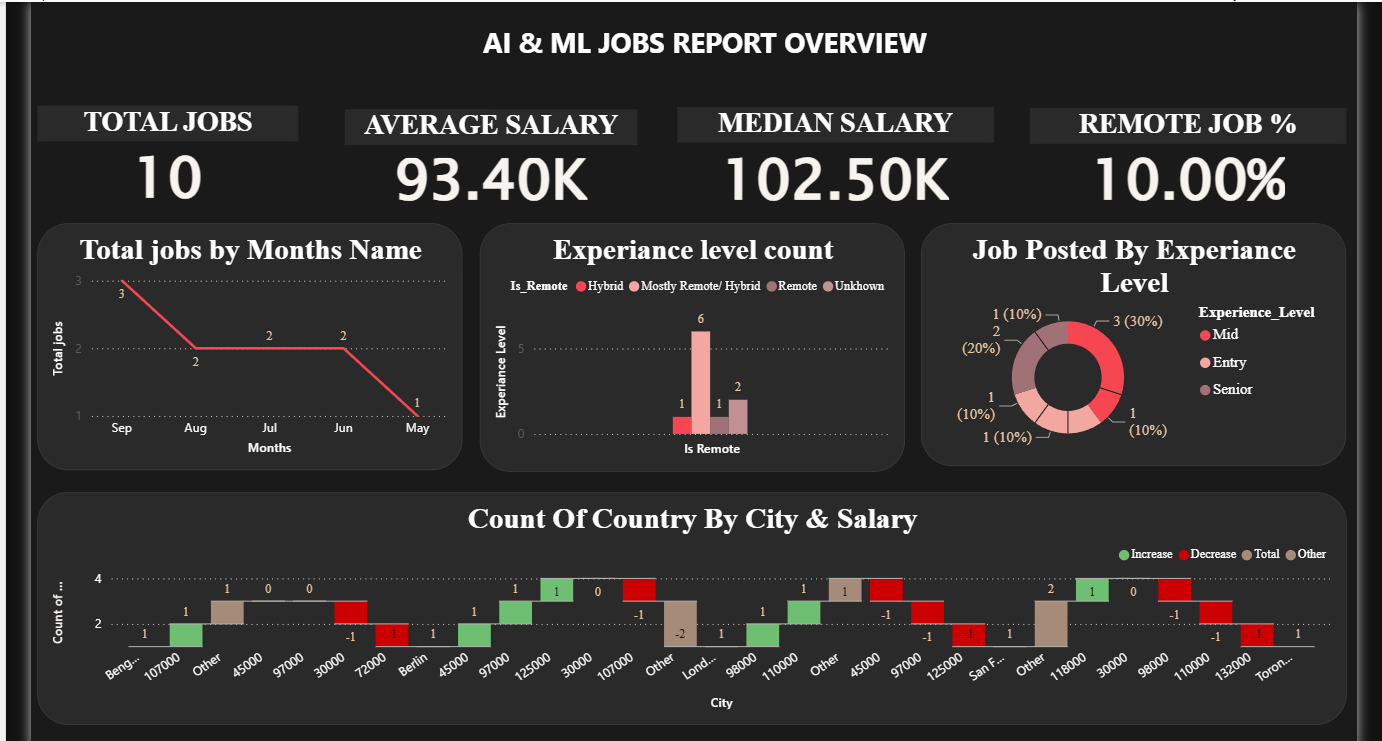

The page's visual inventory and layout, read from the dashboard file:
{"tool":"powerbi","page":{"name":"Over view","canvas":[1280,720],"ordinal":0},"visuals":[{"type":"cardVisual","title":"TOTAL JOBS","fields":{"Data":["Fact_Jobs.Totaljobs"]},"box":[6,100.1,252.1,109.8],"z":0},{"type":"cardVisual","title":"AVERAGE SALARY","fields":{"Data":["Fact_Jobs.AvgSalary"]},"box":[302.8,103.8,282.3,107.4],"z":1000},{"type":"cardVisual","title":"MEDIAN SALARY","fields":{"Data":["Fact_Jobs.medianSalary"]},"box":[623.7,101.3,305.2,111],"z":2000},{"type":"cardVisual","title":"REMOTE JOB %","fields":{"Data":["Fact_Jobs.RemoteJob%"]},"box":[963.9,102.5,305.2,109.8],"z":3000},{"type":"lineChart","title":"Total jobs by Months Name","fields":{"Category":["Dim_Date.MonthName"],"Y":["Fact_Jobs.Totaljobs"]},"box":[5.5,214.1,410.3,238.8],"z":4000},{"type":"clusteredColumnChart","title":"Experiance level count","fields":{"Series":["Fact_Jobs.Is_Remote"],"Y":["CountNonNull(Fact_Jobs.Experience_Level)"]},"box":[433.6,214.1,410.3,240.1],"z":5000},{"type":"donutChart","title":"Job Posted By Experiance Level","fields":{"Series":["Fact_Jobs.Is_Remote"],"Category":["Fact_Jobs.Experience_Level"],"Y":["Fact_Jobs.Totaljobs"]},"box":[859,214.1,410.3,234.6],"z":6000},{"type":"waterfallChart","title":"Count Of Country By City & Salary","fields":{"Category":["Dim_Locations.City"],"Breakdown":["Fact_Jobs.Salary_USD"],"Y":["CountNonNull(Dim_Locations.Country)"]},"box":[5.5,473.4,1263.8,225],"z":7000},{"type":"textbox","box":[389.6,16.1,521.2,84.6],"z":8000}]}

Visuals, with their boxes on the page's 1280x720 design canvas (x1, y1, x2, y2). These are canvas units, not pixel positions in the 1382x741 screenshot, which may show the page scaled, cropped or inside an application window:
"TOTAL JOBS" cardVisual: <bbox>6, 100, 258, 210</bbox>
"AVERAGE SALARY" cardVisual: <bbox>303, 104, 585, 211</bbox>
"MEDIAN SALARY" cardVisual: <bbox>624, 101, 929, 212</bbox>
"REMOTE JOB %" cardVisual: <bbox>964, 102, 1269, 212</bbox>
"Total jobs by Months Name" lineChart: <bbox>6, 214, 416, 453</bbox>
"Experiance level count" clusteredColumnChart: <bbox>434, 214, 844, 454</bbox>
"Job Posted By Experiance Level" donutChart: <bbox>859, 214, 1269, 449</bbox>
"Count Of Country By City & Salary" waterfallChart: <bbox>6, 473, 1269, 698</bbox>
textbox: <bbox>390, 16, 911, 101</bbox>
